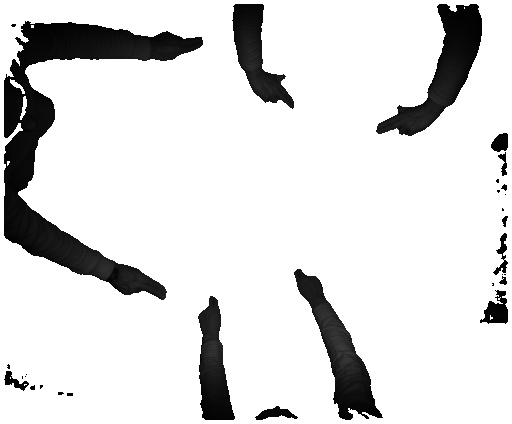hand: (115, 266, 167, 303), (154, 27, 207, 63), (376, 104, 432, 135), (288, 264, 328, 307), (252, 73, 295, 111), (192, 296, 223, 337)
